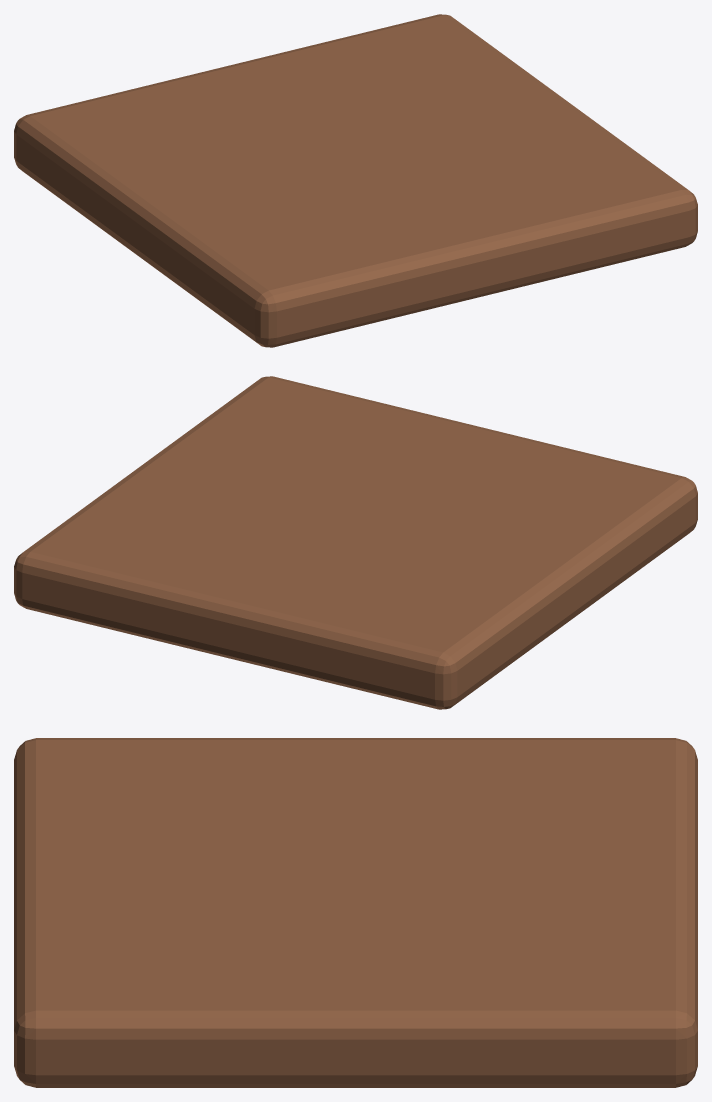
Rendered from SM_Plot.fbx.
3 renders of one model, top to bottom at view 1: azimuth 30°, elevation 25°; view 2: azimuth 150°, elevation 25°; view 3: azimuth 270°, elevation 25°, orthographic. The views are drawn at different scales.
Parts seen in each view (by area): view 1: SoilMesh; view 2: SoilMesh; view 3: SoilMesh.
Boxes of the visible parts, left/top/right/bottom form: SoilMesh: left=14, top=14, right=697, bottom=347; SoilMesh: left=14, top=376, right=697, bottom=709; SoilMesh: left=14, top=738, right=697, bottom=1087.
Bounding box in the file's own units: 1.4 × 0.17 × 1.4.
